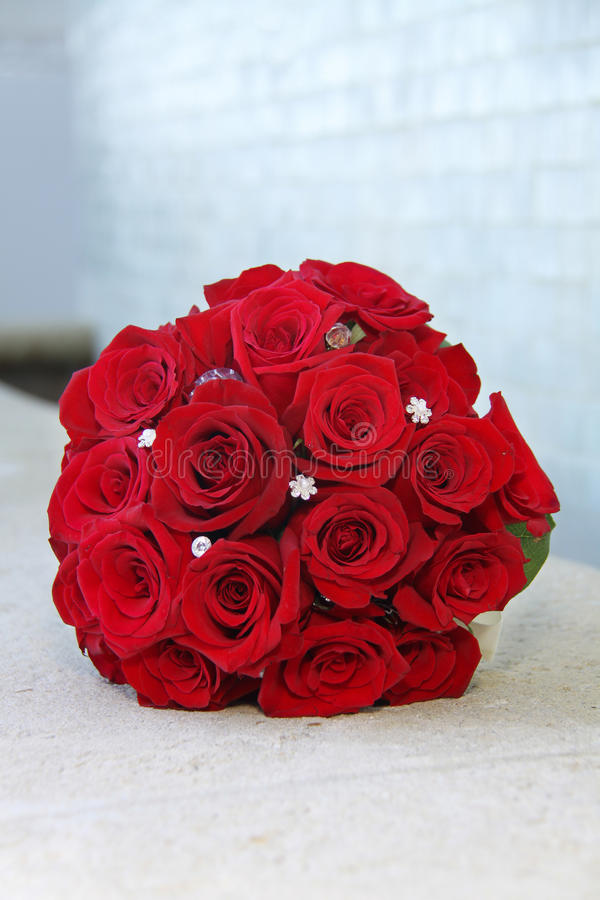RedRose: (52, 311, 210, 434), (155, 391, 288, 534), (49, 529, 187, 664), (172, 531, 303, 672), (37, 433, 180, 546), (295, 489, 420, 609), (287, 359, 406, 484), (255, 616, 398, 719), (218, 291, 338, 398), (478, 391, 560, 539), (313, 248, 443, 334), (367, 616, 486, 709), (380, 328, 500, 416), (413, 529, 523, 624), (393, 409, 483, 522), (105, 635, 233, 712), (189, 256, 303, 313)
